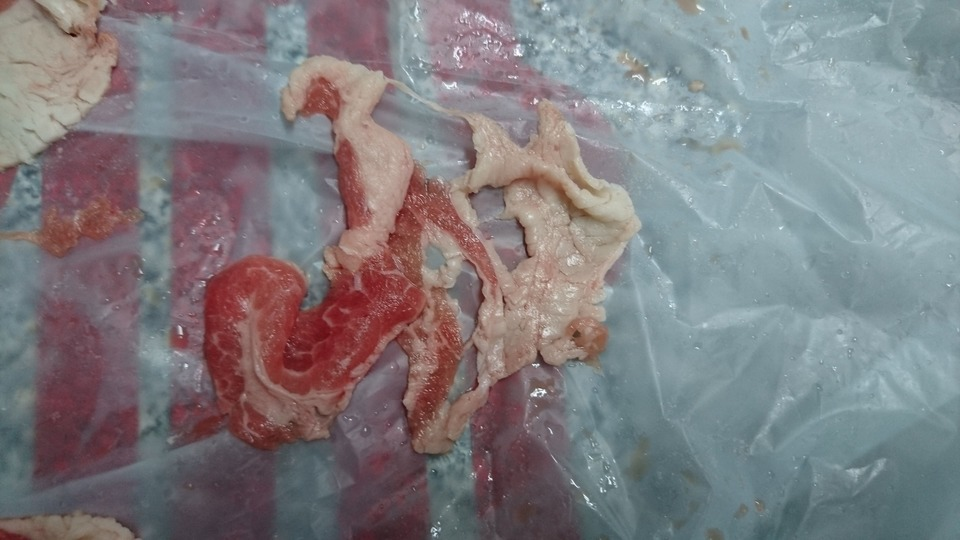restructured meat: (206, 55, 637, 456)
